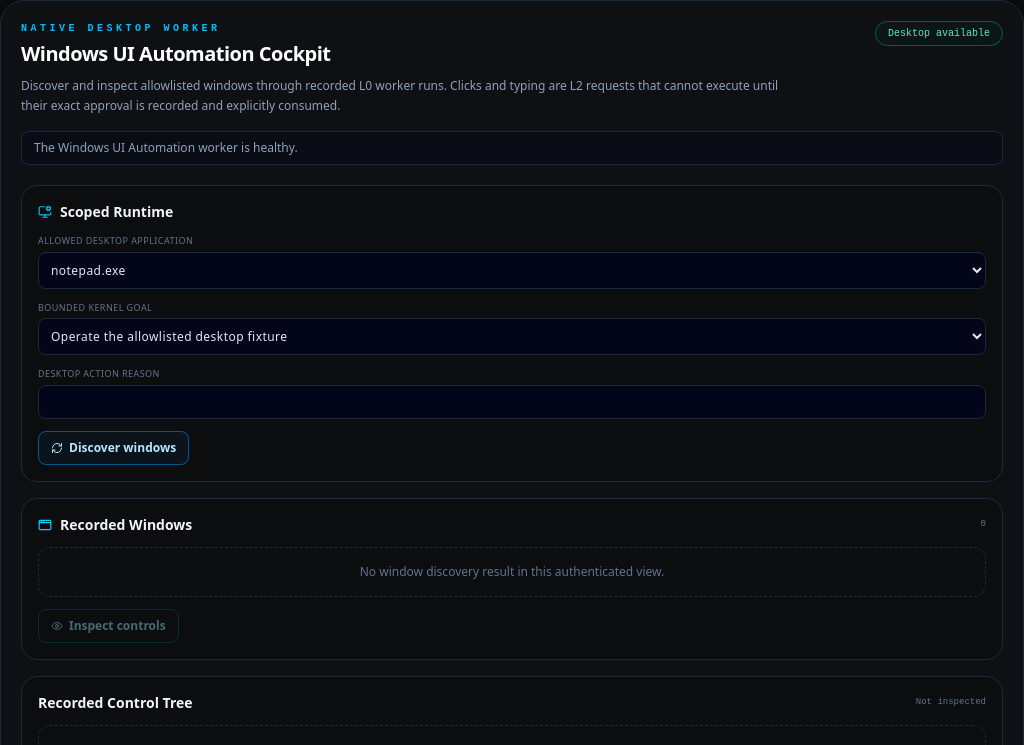
it: DesktopPanel › discovers and inspects exact worker-scoped desktop state without browser persistence
This screenshot has width=1024, height=745.
Check: the button "Discover windows" is enabled, box top-left (38, 430), bottom-right (189, 464)
In the field labelled "Desktop action reason": (512, 402) top-left (38, 384), bottom-right (986, 418), type "Inspect the operator-selected Notepad window."
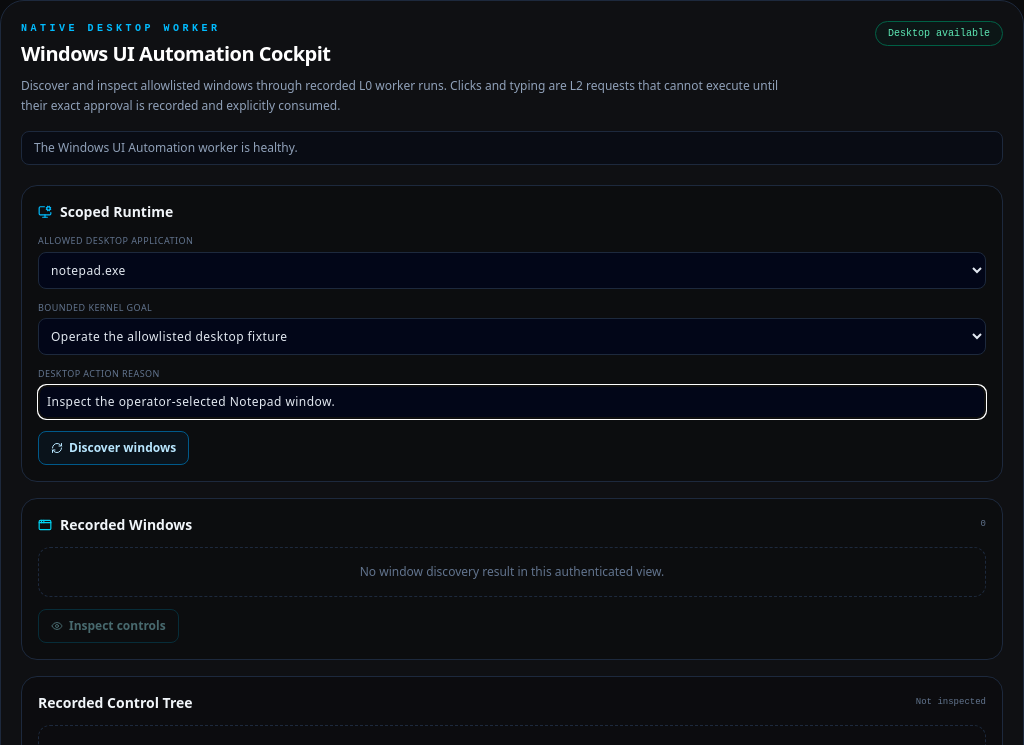
Click the button "Discover windows": click(114, 448) top-left (38, 430), bottom-right (189, 464)
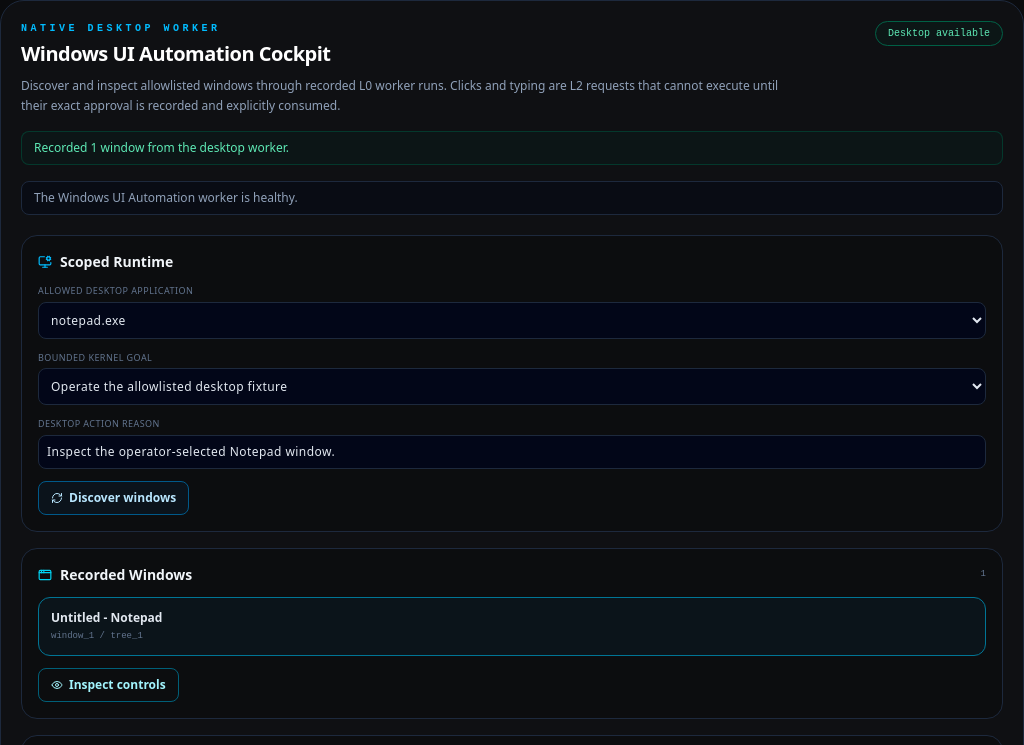
Check: the button with test id "desktop-window-window_1" shows "Untitled - Notepad", box top-left (38, 596), bottom-right (986, 656)
Click the button "Inspect controls": click(108, 685) top-left (38, 668), bottom-right (179, 702)
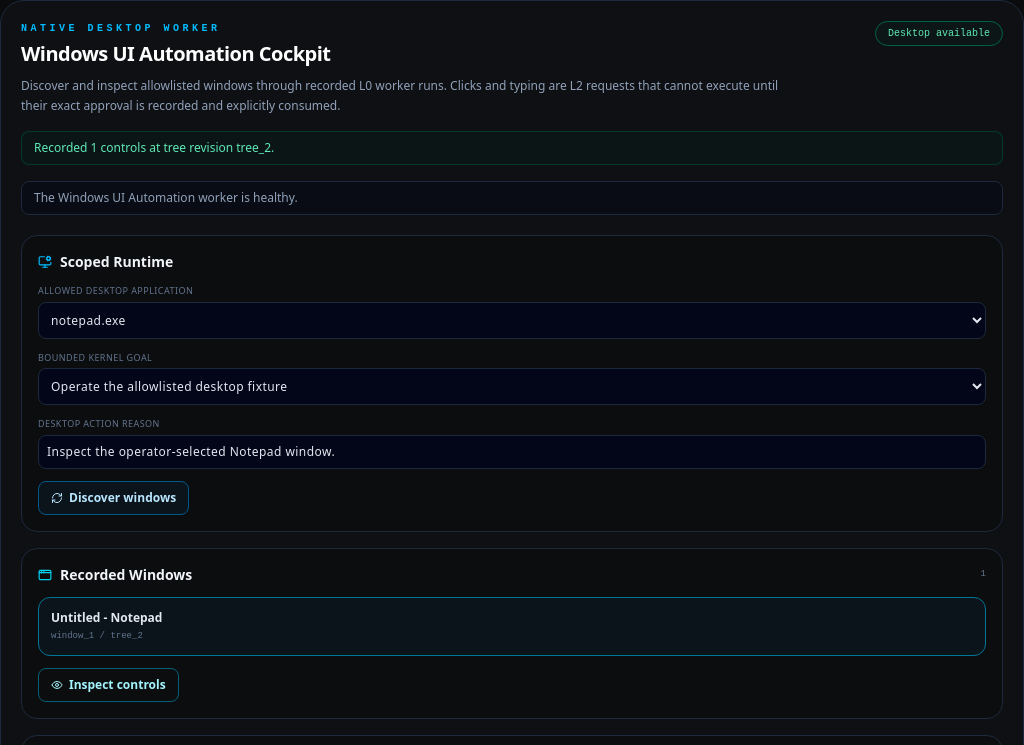
Check: the text "Recorded 1 controls at tree revision tree_2." is shown, box top-left (21, 131), bottom-right (1003, 165)
